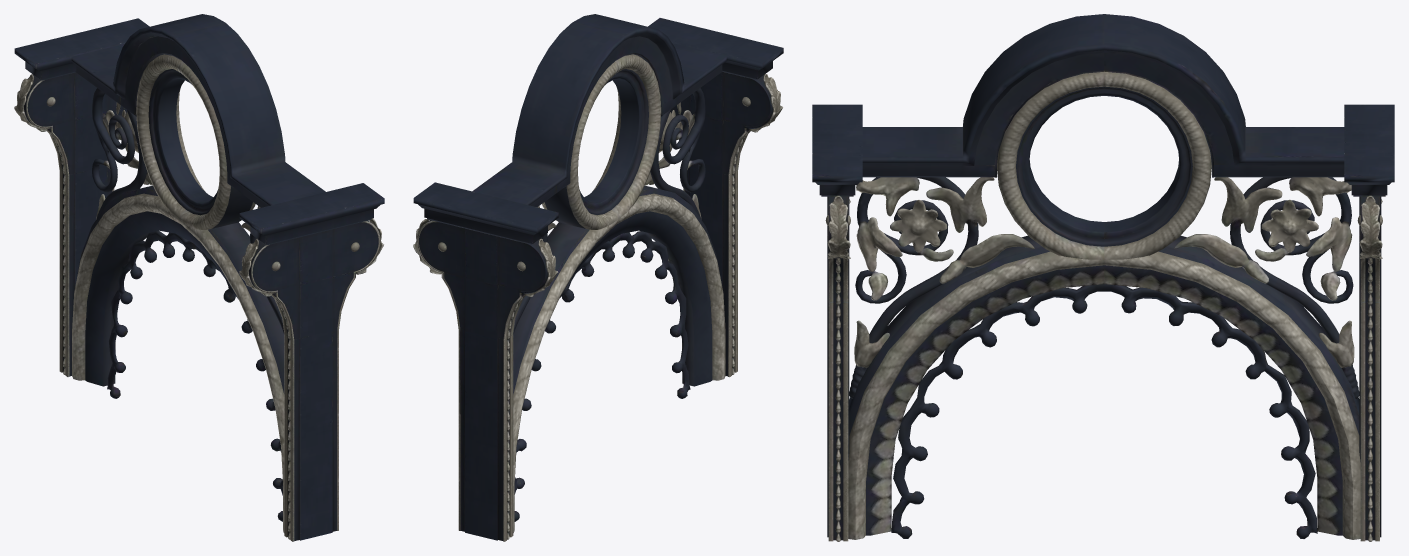
File: victorian_arch.glb
3 views of the same model, side by side, from view 1: azimuth 30°, elevation 25°; view 2: azimuth 150°, elevation 25°; view 3: azimuth 270°, elevation 25° (orthographic). The views are drawn at different scales.
Visible parts, largest first — view 1: polySurface36, arch_pillar.001, arch_pillar; view 2: polySurface36, arch_pillar, arch_pillar.001; view 3: polySurface36, arch_pillar.001, arch_pillar.
Boxes of the visible parts, <box> form: polySurface36: <box>71,14,325,532</box>; arch_pillar.001: <box>239,183,384,541</box>; arch_pillar: <box>14,18,149,376</box>; polySurface36: <box>472,14,727,532</box>; arch_pillar: <box>413,182,558,541</box>; arch_pillar.001: <box>648,18,783,377</box>; polySurface36: <box>848,14,1360,539</box>; arch_pillar.001: <box>812,104,862,541</box>; arch_pillar: <box>1344,104,1394,541</box>.
Size of the model in its own units: 0.6438 by 1.93 by 2.
2 materials, 2 textured.
